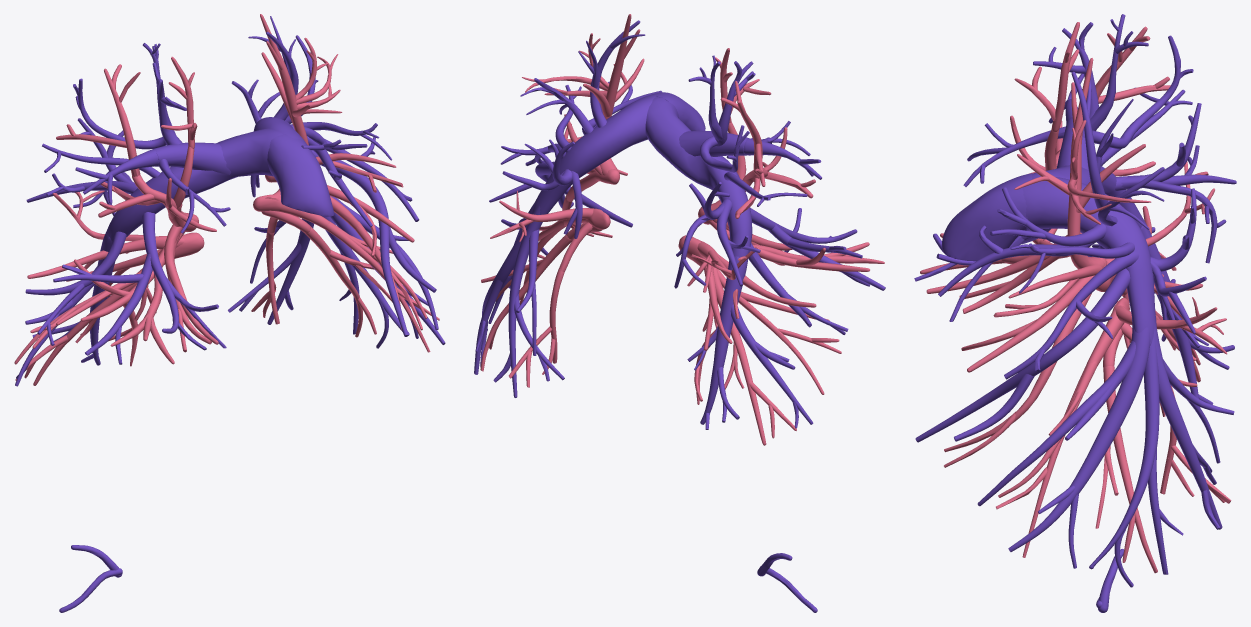
Rendered from pulmonary-vessels.glb.
The picture shows the model from 3 angles, left to right: view 1: azimuth 30°, elevation 25°; view 2: azimuth 150°, elevation 25°; view 3: azimuth 270°, elevation 25°; orthographic projection. The views are drawn at different scales.
Parts seen in each view (by area): view 1: right_pulmonary_artery, left_pulmonary_artery, right_superior_pulmonary_vein, left_superior_pulmonary_vein, right_inferior_pulmonary_vein, left_inferior_pulmonary_vein, pulmonary_trunk, left_lung_other_pulmonary_arteries; view 2: right_pulmonary_artery, left_pulmonary_artery, right_inferior_pulmonary_vein, right_superior_pulmonary_vein, left_superior_pulmonary_vein, left_inferior_pulmonary_vein, left_lung_other_pulmonary_arteries, pulmonary_trunk; view 3: left_pulmonary_artery, right_pulmonary_artery, left_superior_pulmonary_vein, left_inferior_pulmonary_vein, right_superior_pulmonary_vein, left_lung_other_pulmonary_arteries, pulmonary_trunk, right_inferior_pulmonary_vein.
Boxes of the visible parts, box(x1,y1,x2,y2) form: right_pulmonary_artery: box(15, 43, 282, 612); left_pulmonary_artery: box(228, 16, 445, 348); right_superior_pulmonary_vein: box(56, 56, 218, 364); left_superior_pulmonary_vein: box(260, 14, 422, 330); right_inferior_pulmonary_vein: box(14, 190, 204, 385); left_inferior_pulmonary_vein: box(251, 194, 439, 352); pulmonary_trunk: box(267, 134, 334, 216); left_lung_other_pulmonary_arteries: box(311, 137, 436, 336); right_pulmonary_artery: box(645, 55, 885, 612); left_pulmonary_artery: box(474, 20, 683, 397); right_inferior_pulmonary_vein: box(678, 235, 841, 445); right_superior_pulmonary_vein: box(698, 48, 884, 271); left_superior_pulmonary_vein: box(490, 14, 644, 241); left_inferior_pulmonary_vein: box(480, 208, 610, 387); left_lung_other_pulmonary_arteries: box(500, 143, 632, 227); pulmonary_trunk: box(651, 92, 705, 130); left_pulmonary_artery: box(938, 71, 1234, 587); right_pulmonary_artery: box(914, 14, 1236, 612); left_superior_pulmonary_vein: box(944, 58, 1227, 467); left_inferior_pulmonary_vein: box(996, 297, 1231, 573); right_superior_pulmonary_vein: box(920, 22, 1170, 313); left_lung_other_pulmonary_arteries: box(915, 251, 1139, 442); pulmonary_trunk: box(941, 173, 1032, 261); right_inferior_pulmonary_vein: box(1096, 161, 1214, 416).
Bounding box in the file's own units: 0.2397 × 0.3413 × 0.1508.
